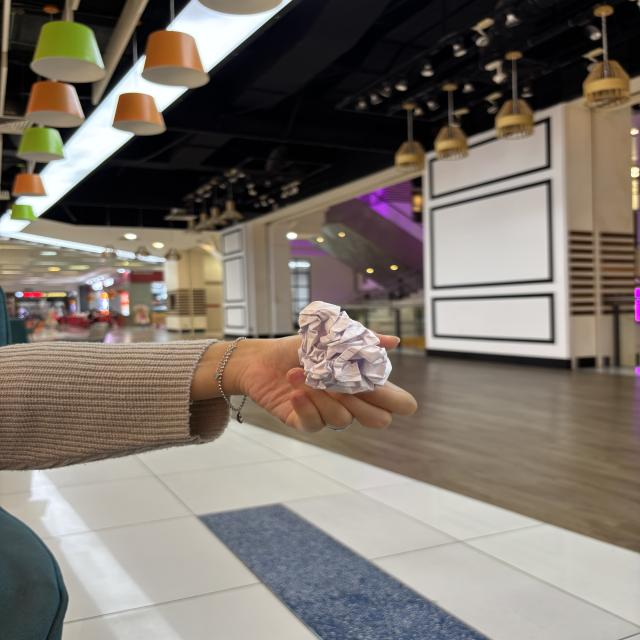crumpled_paper: (294, 296, 396, 399)
